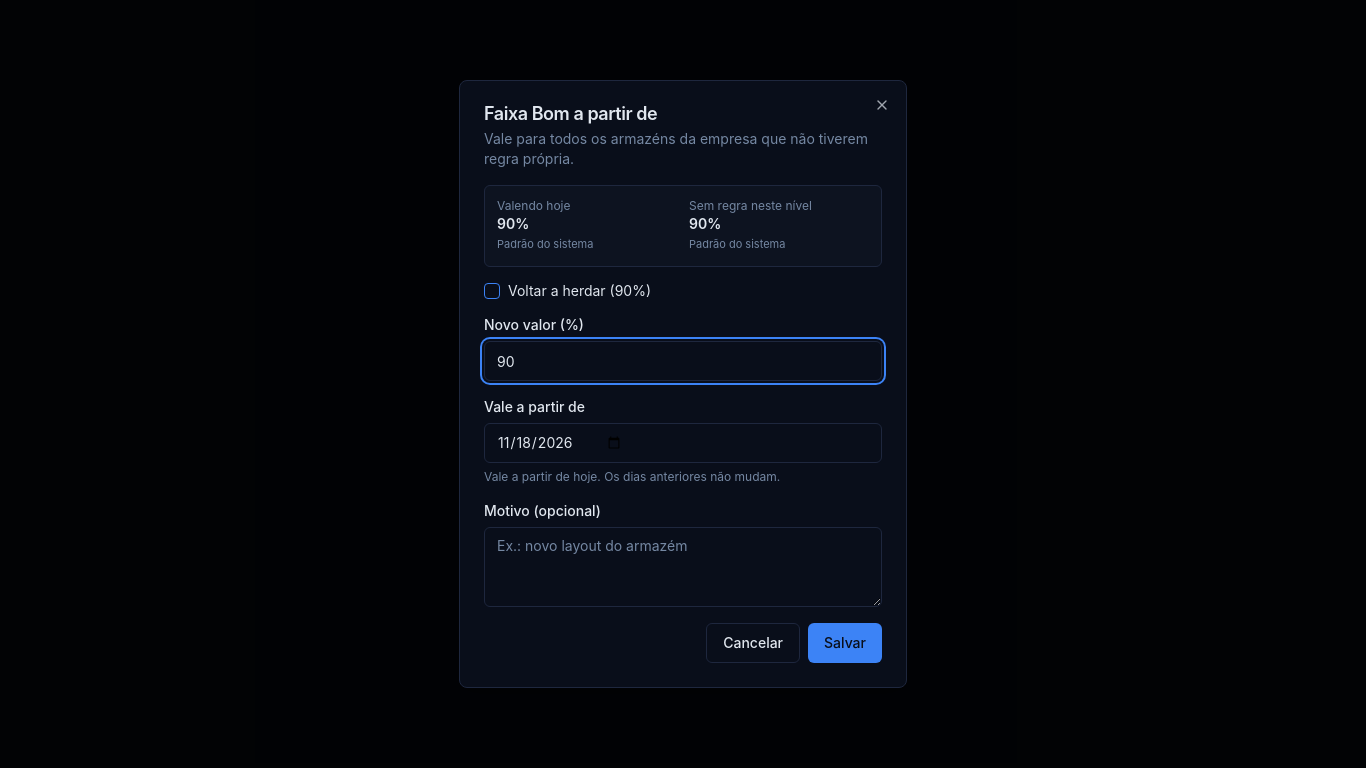
Test: Fase 7 · diálogo de alteração › bloqueia valor fora da faixa
Replace the text in the field labelled "Novo valor (%)" with "5" at (683, 361), box 484,341 -> 882,381
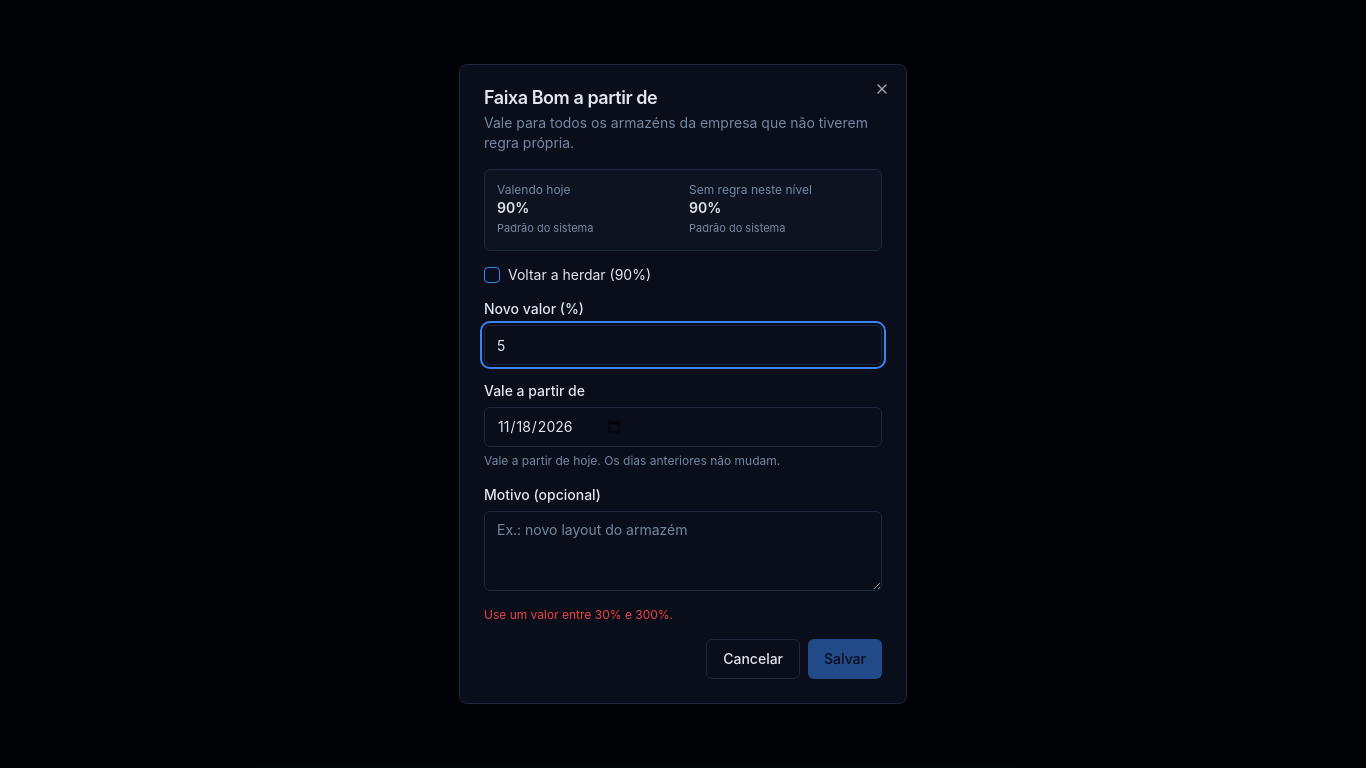
Check: the message shows "entre 30% e 300%", box 484,607 -> 673,622
Check: the button "Salvar" is disabled, box 808,639 -> 882,679
